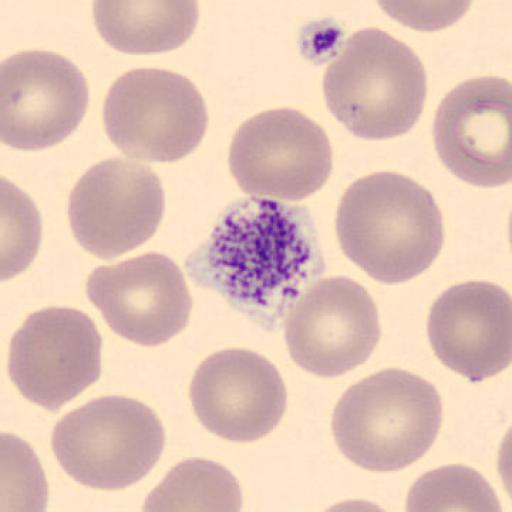Platelet: (196, 194, 326, 319)
RBC: (332, 168, 446, 286), (320, 24, 428, 142), (330, 366, 444, 475), (48, 394, 168, 494), (100, 65, 210, 165), (84, 249, 193, 349), (66, 154, 166, 262), (226, 105, 334, 204), (282, 274, 382, 380), (7, 305, 104, 413), (187, 346, 289, 447), (1, 46, 91, 154), (431, 72, 512, 190), (424, 278, 512, 384), (91, 0, 202, 56), (138, 455, 245, 512), (403, 462, 503, 512), (2, 176, 44, 282), (0, 430, 50, 512), (370, 0, 474, 34), (493, 412, 512, 512), (308, 495, 406, 512), (495, 424, 512, 505)
